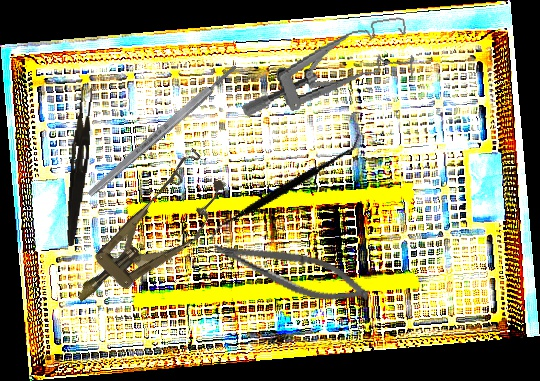Dressing Forceps: (64, 85, 94, 247)
Micro Scissor: (207, 233, 375, 312)
Scalpel Handle: (85, 62, 240, 199)
Spatula Surgical: (206, 94, 363, 280)
Speculum: (54, 145, 241, 327), (232, 15, 420, 119)
